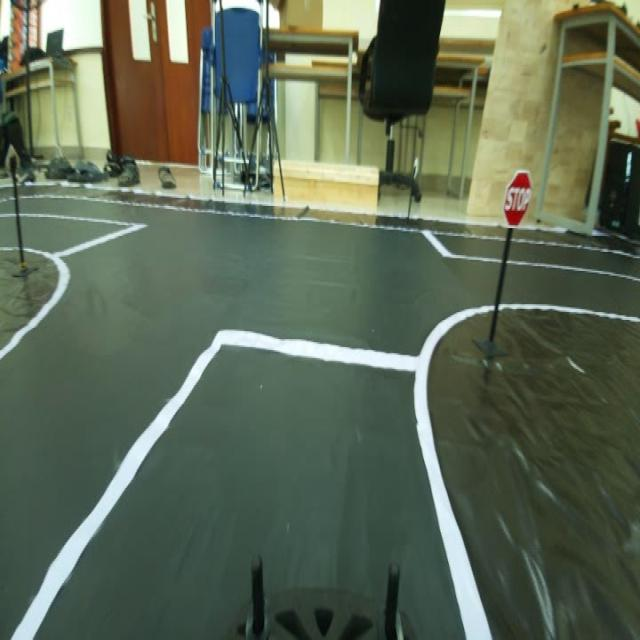stop: (502, 161, 534, 219)
